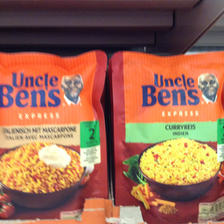rice: (109, 50, 223, 224), (1, 51, 106, 221)
